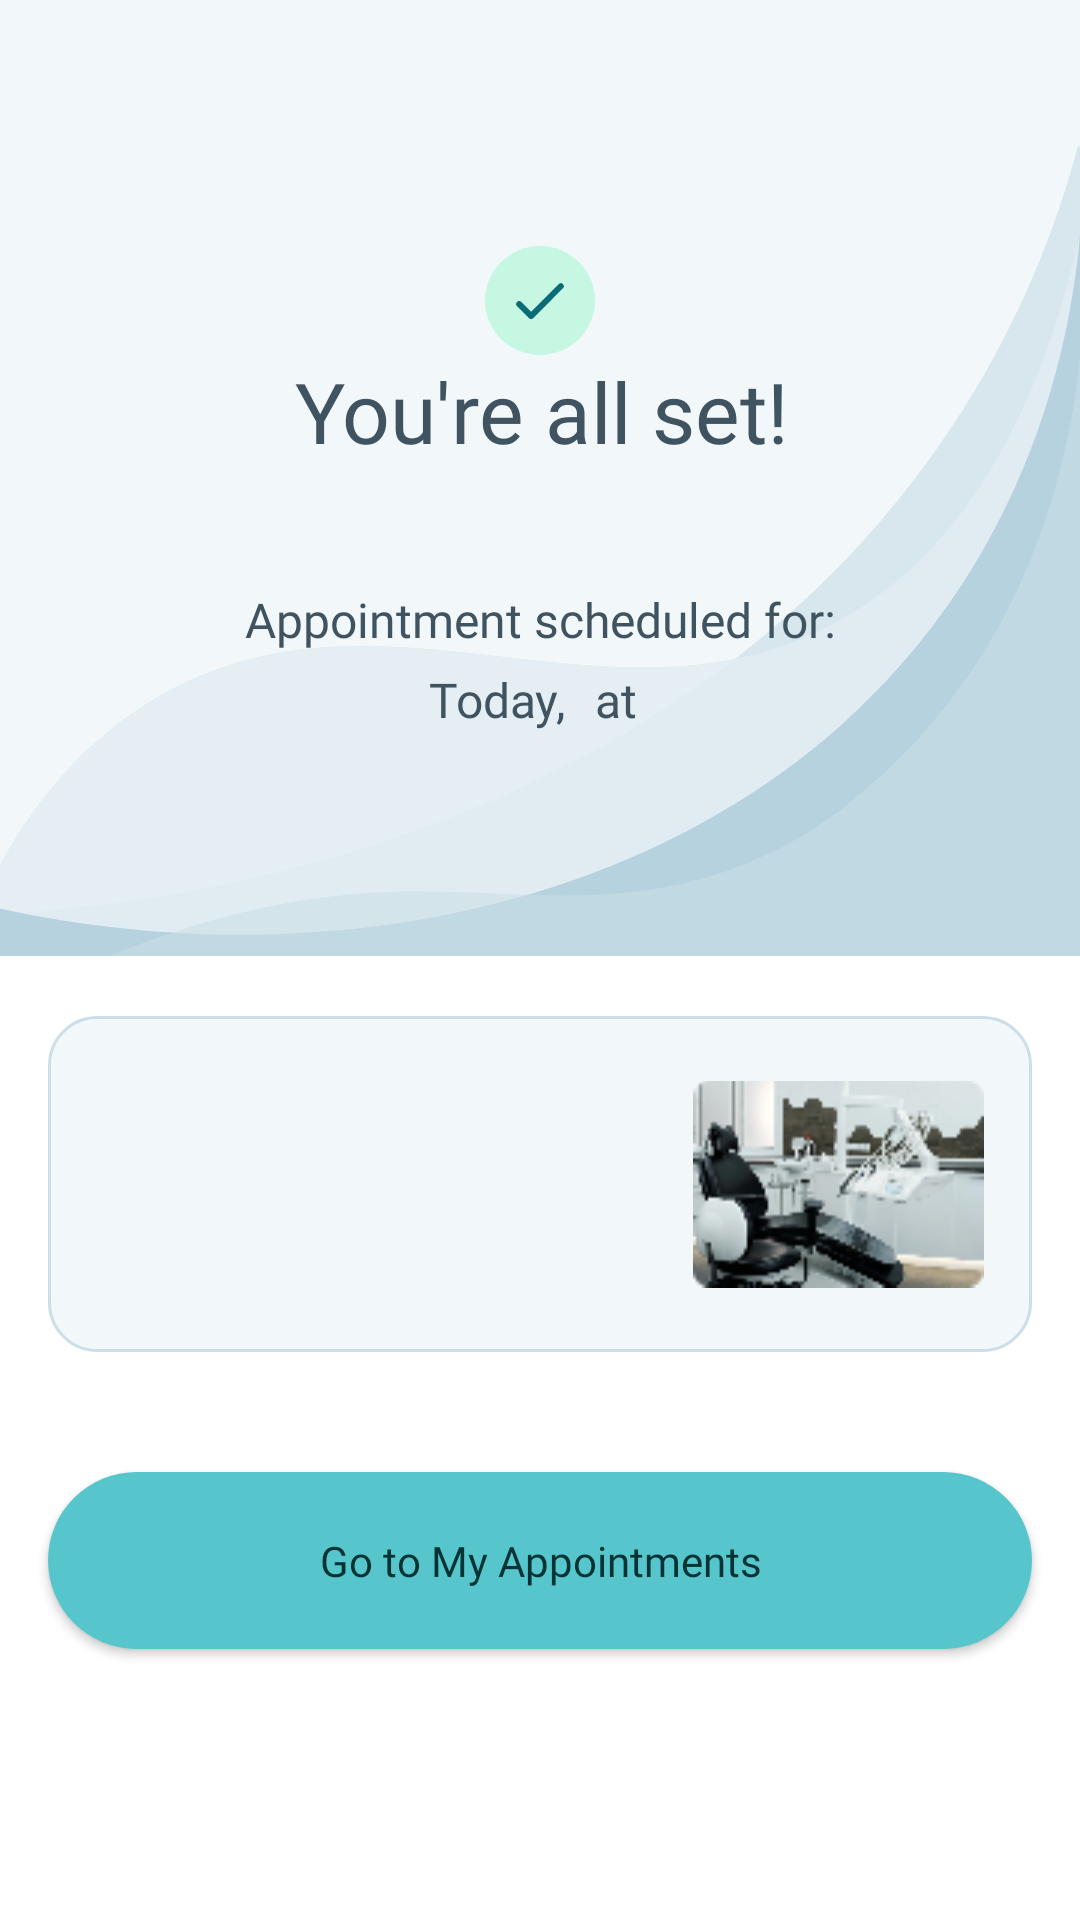

Locate icon controls on the screen. Image size 1080 × 1920, boxes as [x1,y1,x2,y2].
clinic photo dammy: [693,1081,984,1288]
